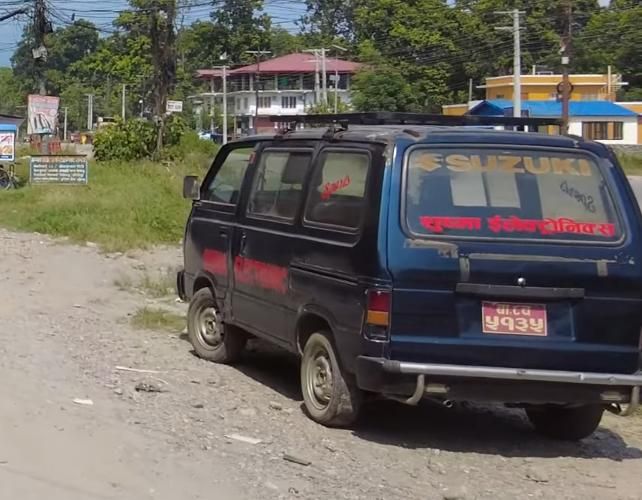van: (171, 115, 642, 454)
